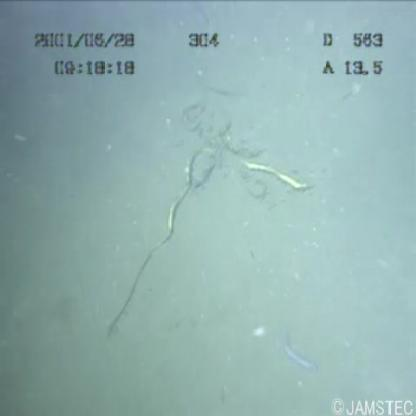Rác: (78, 67, 330, 378)
